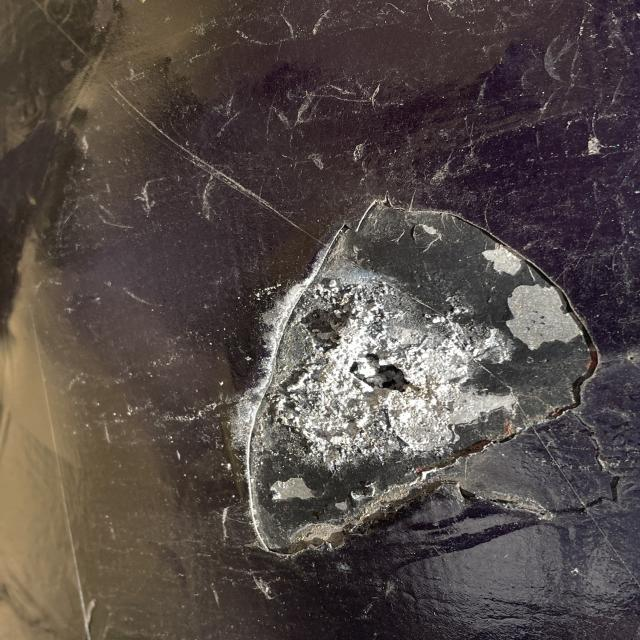dent: (217, 190, 612, 570)
